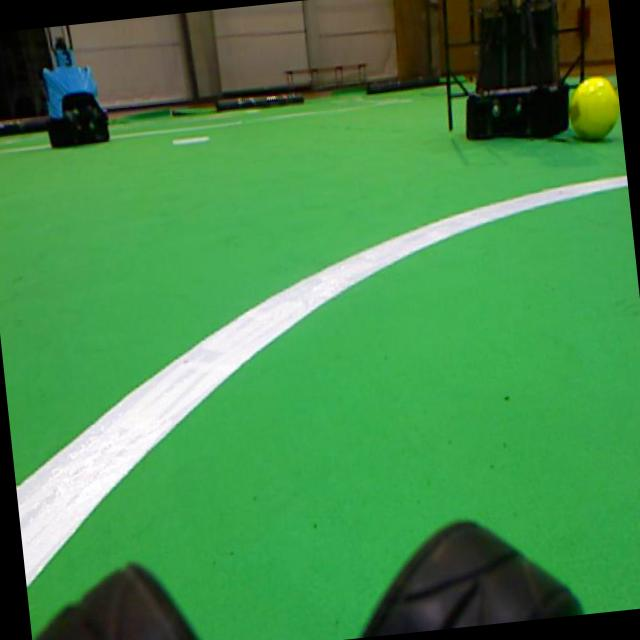ball: (568, 75, 617, 139)
robot: (465, 0, 567, 138)
